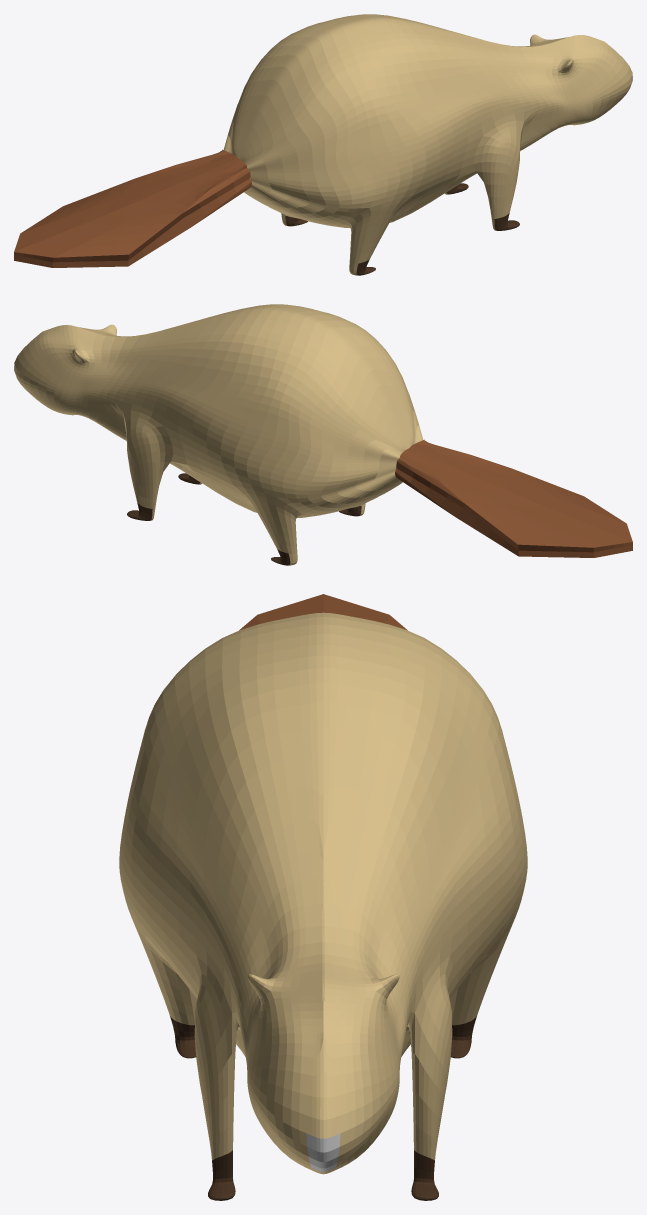
Rendered from beaver2.fbx.
3 renders of one model, top to bottom at view 1: azimuth 30°, elevation 25°; view 2: azimuth 150°, elevation 25°; view 3: azimuth 270°, elevation 25°, orthographic. The views are drawn at different scales.
Parts seen in each view (by area): view 1: Cube, Cube.002; view 2: Cube, Cube.002; view 3: Cube, Cube.002.
Boxes of the visible parts, bbox=[...] form: Cube: bbox=[223, 14, 632, 275]; Cube.002: bbox=[14, 149, 251, 267]; Cube: bbox=[14, 304, 423, 565]; Cube.002: bbox=[395, 439, 632, 557]; Cube: bbox=[119, 612, 527, 1200]; Cube.002: bbox=[239, 594, 407, 630].
Size of the model in its own units: 679 by 230 by 194.
